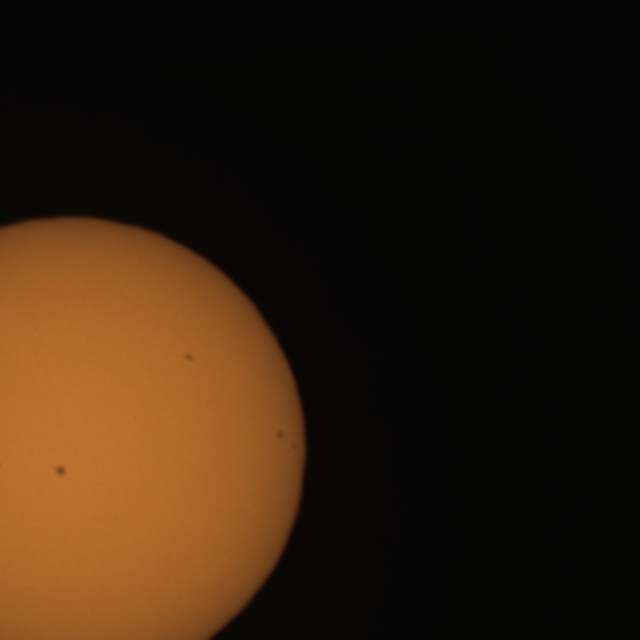sunspot: (275, 427, 298, 453), (52, 463, 69, 479), (182, 350, 196, 364), (274, 428, 286, 442)
